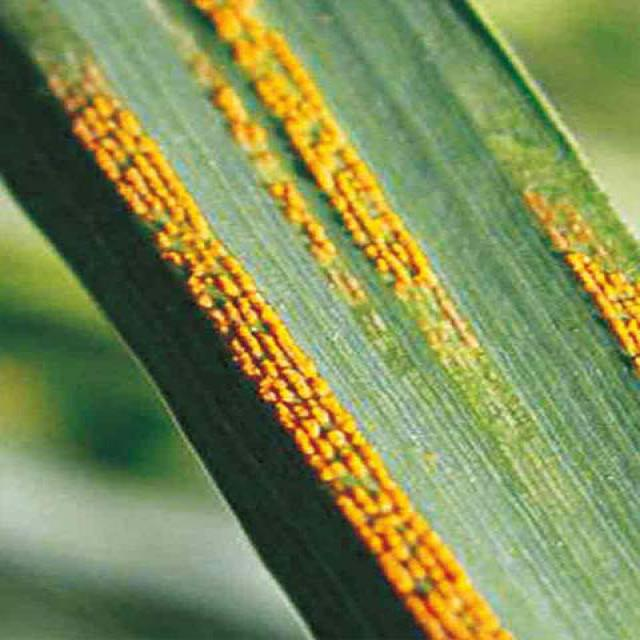wheat-yellowrust: (41, 56, 517, 640), (195, 0, 484, 368), (187, 53, 393, 345), (527, 193, 640, 374)
